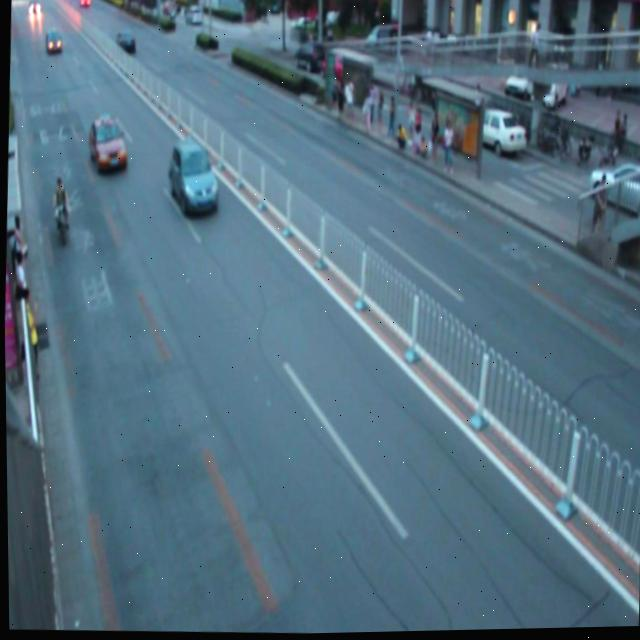car: (166, 137, 221, 217), (86, 112, 129, 178)
